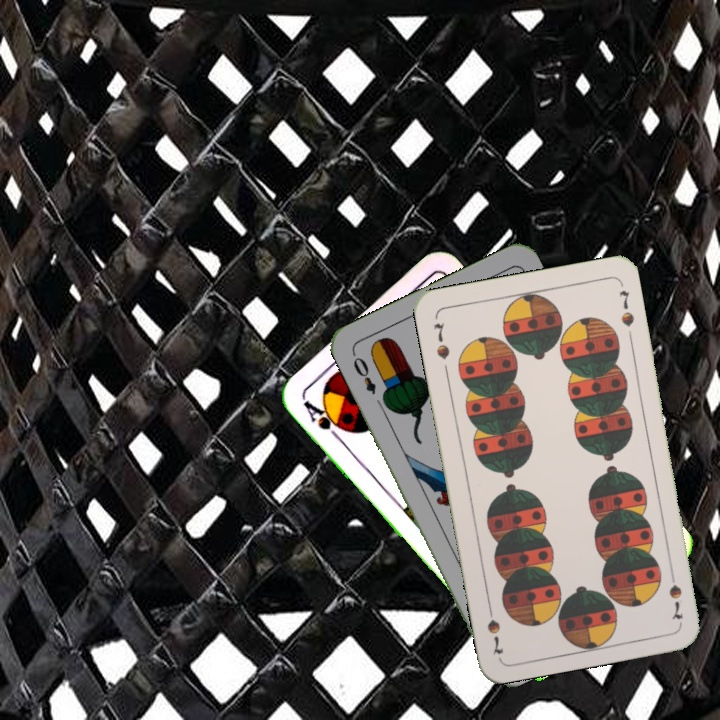EO: (348, 349, 379, 397)
S7: (665, 565, 686, 622), (429, 318, 452, 362)
SA: (297, 391, 347, 441)
